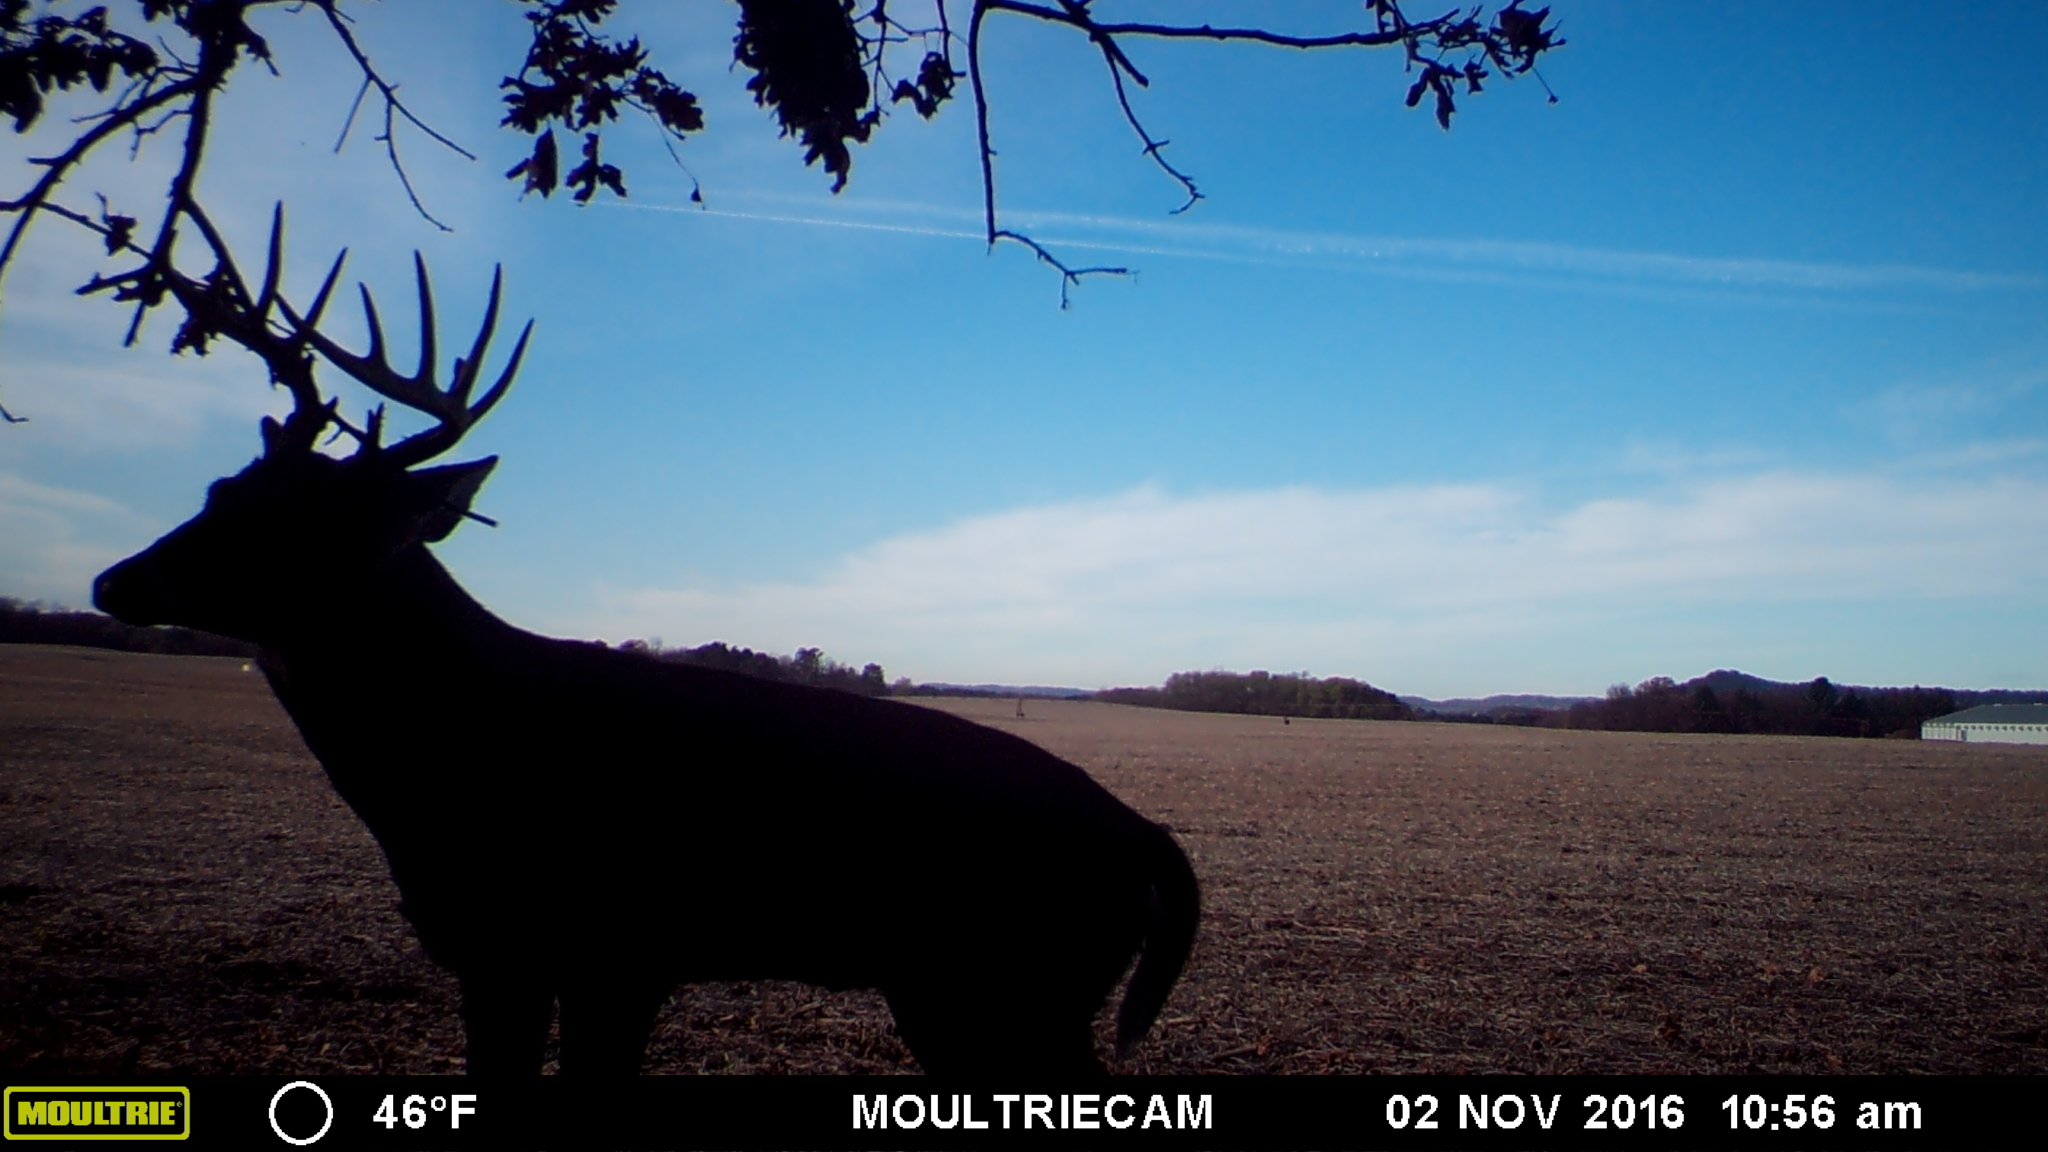DeerBuck: (90, 199, 1206, 1077)
DeerBuckHead: (89, 197, 536, 623)
